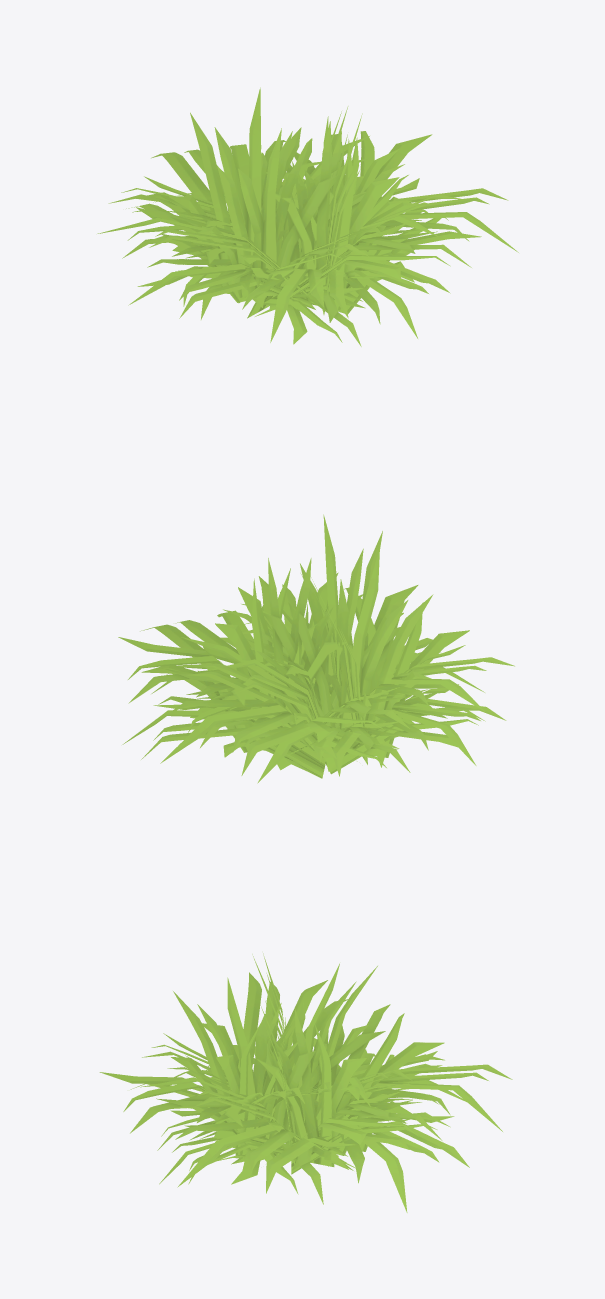
File: SM_Env_Grass_Bush_01.glb
3 views of the same model, one above another, from view 1: azimuth 30°, elevation 25°; view 2: azimuth 150°, elevation 25°; view 3: azimuth 270°, elevation 25° (orthographic). The views are drawn at different scales.
Parts seen in each view (by area): view 1: SM_Env_Grass_Bush_01; view 2: SM_Env_Grass_Bush_01; view 3: SM_Env_Grass_Bush_01.
Part boxes in pixels (x1,y1,x2,y2): SM_Env_Grass_Bush_01: (97, 87, 518, 346); SM_Env_Grass_Bush_01: (118, 514, 514, 783); SM_Env_Grass_Bush_01: (99, 953, 512, 1212).
Size of the model in its own units: 2.28 by 1.2 by 2.31.
Materials: 1 (1 with a texture image).
